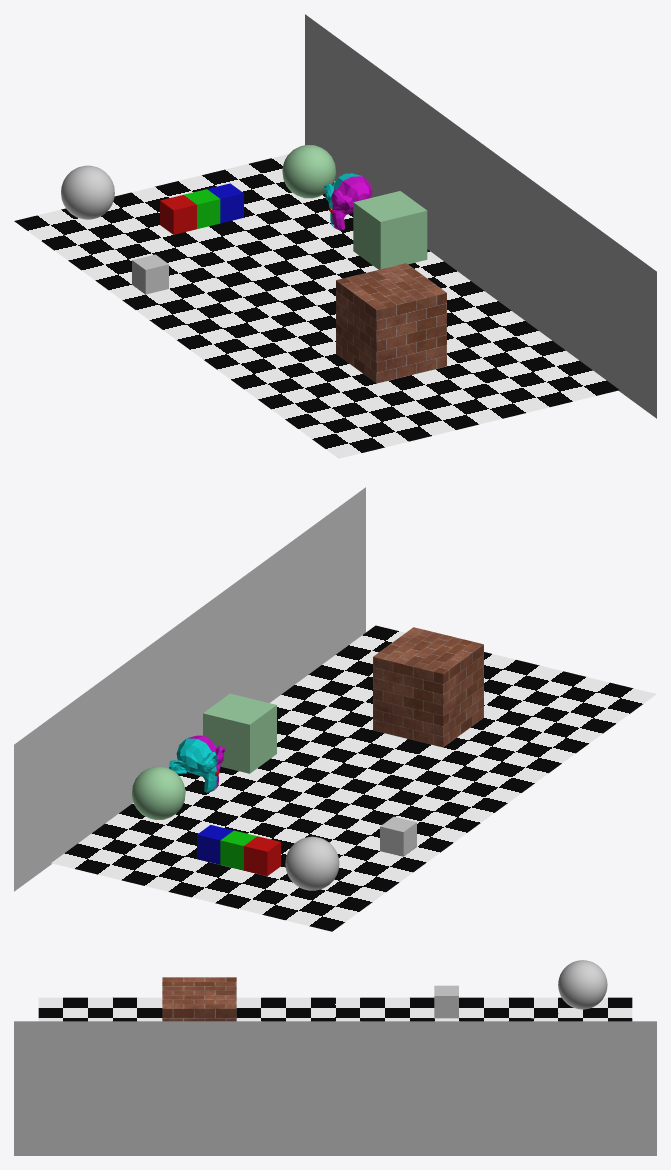
3 renders of one model, top to bottom at view 1: azimuth 30°, elevation 25°; view 2: azimuth 150°, elevation 25°; view 3: azimuth 270°, elevation 25°, orthographic. The views are drawn at different scales.
Visible parts, largest first — view 1: Plane, Plane.001, Cube, GlassCube, Sphere, Icosphere, Suzanne, CubeLeft, Cube.002, CubeCenter, CubeRight; view 2: Plane, Plane.001, Cube, GlassCube, Sphere, Icosphere, Suzanne, CubeLeft, Cube.002, CubeCenter, CubeRight; view 3: Plane.001, Plane, Cube, Sphere, Cube.002.
Boxes of the visible parts, x1,y1,x2,y2 form: Plane: (14, 154, 619, 458); Plane.001: (305, 14, 656, 418); Cube: (336, 263, 446, 383); GlassCube: (353, 191, 427, 269); Sphere: (61, 165, 114, 219); Icosphere: (282, 145, 335, 198); Suzanne: (324, 173, 372, 230); CubeLeft: (160, 195, 196, 234); Cube.002: (132, 254, 168, 294); CubeCenter: (184, 189, 220, 228); CubeRight: (207, 183, 243, 223); Plane: (51, 625, 656, 931); Plane.001: (14, 487, 365, 891); Cube: (373, 627, 483, 747); GlassCube: (203, 693, 276, 773); Sphere: (285, 836, 339, 890); Icosphere: (132, 766, 185, 819); Suzanne: (169, 735, 225, 792); CubeLeft: (244, 836, 280, 876); Cube.002: (380, 816, 416, 856); CubeCenter: (220, 830, 256, 870); CubeRight: (197, 825, 233, 864); Plane.001: (14, 1021, 656, 1155); Plane: (38, 997, 632, 1021); Cube: (162, 977, 236, 1021); Sphere: (558, 960, 607, 1009); Cube.002: (434, 985, 458, 1018).
Bounding box in the file's own units: 26 × 12 × 52.
12 materials, 2 textured.
